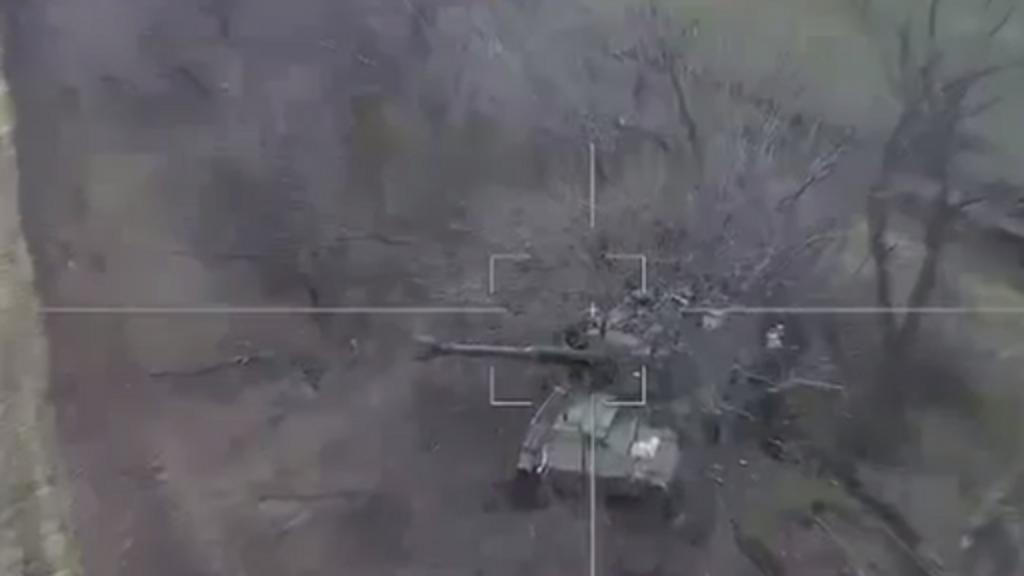ART: (392, 296, 710, 506)
